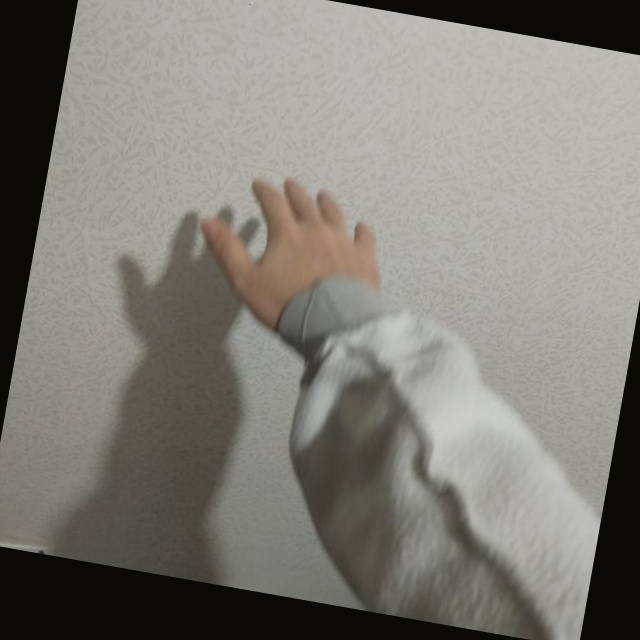hand: (144, 157, 618, 612)
